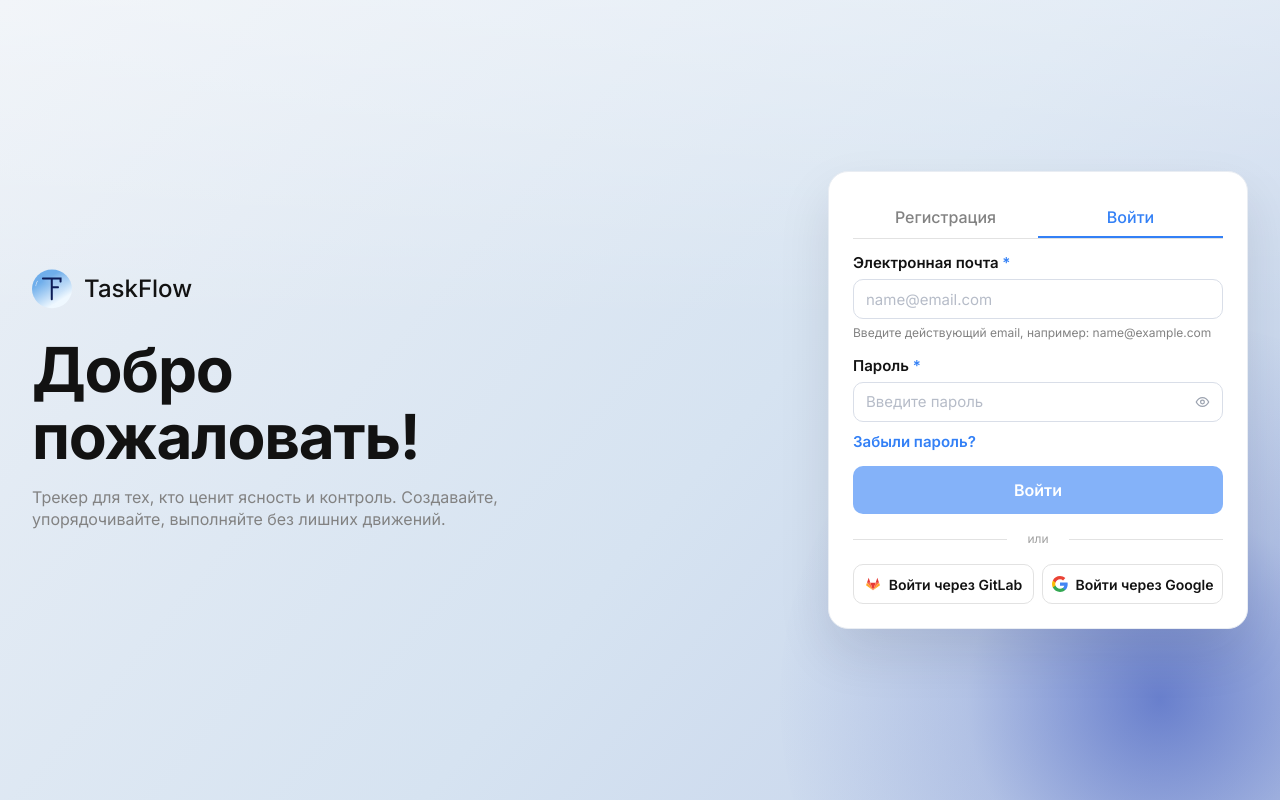
Test case: LoginPage register validation errors › shows backend error text for invalid login password
Type "existing_user@mail.ru" into the field with placeholder "name@email.com" at point(1038, 300), box left=866, top=289, right=1210, bottom=310
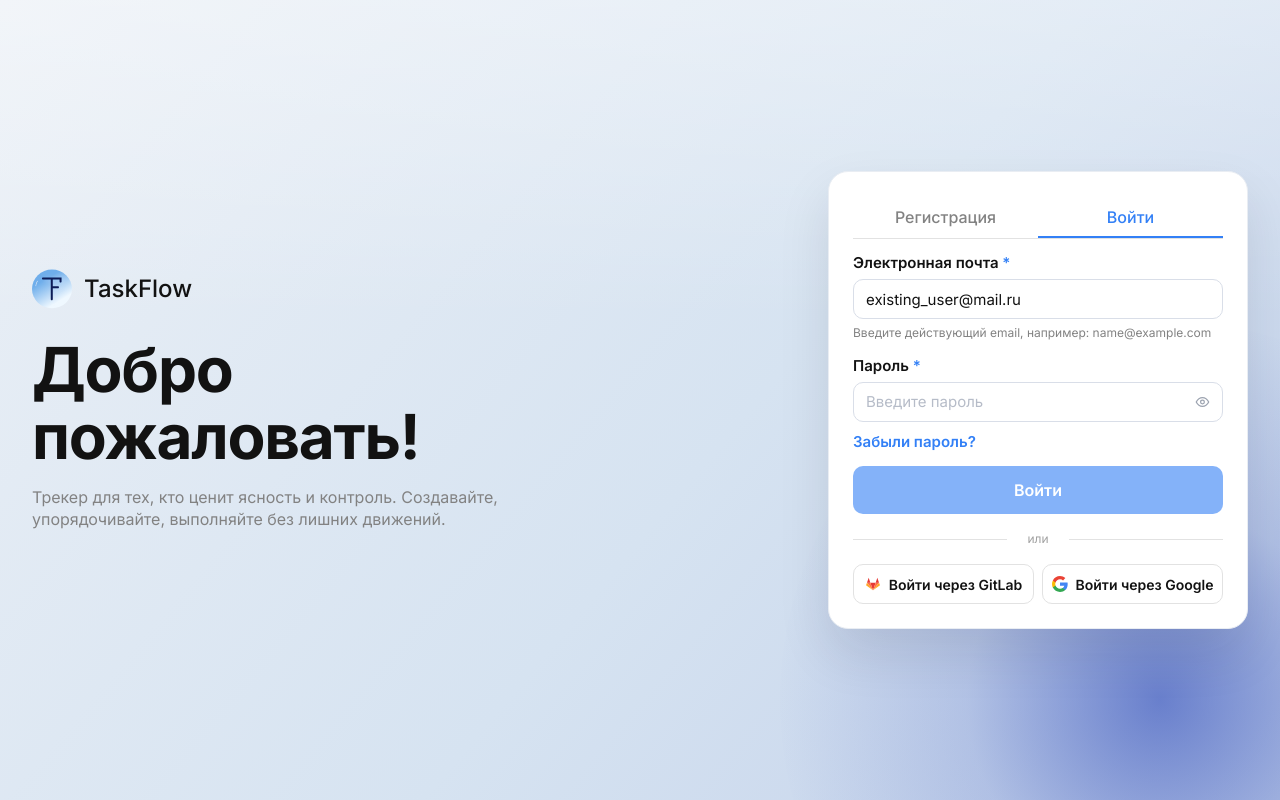
Type "WrongPassword1!" into the password field with placeholder "Введите пароль" at point(1027, 402), box left=866, top=391, right=1187, bottom=413
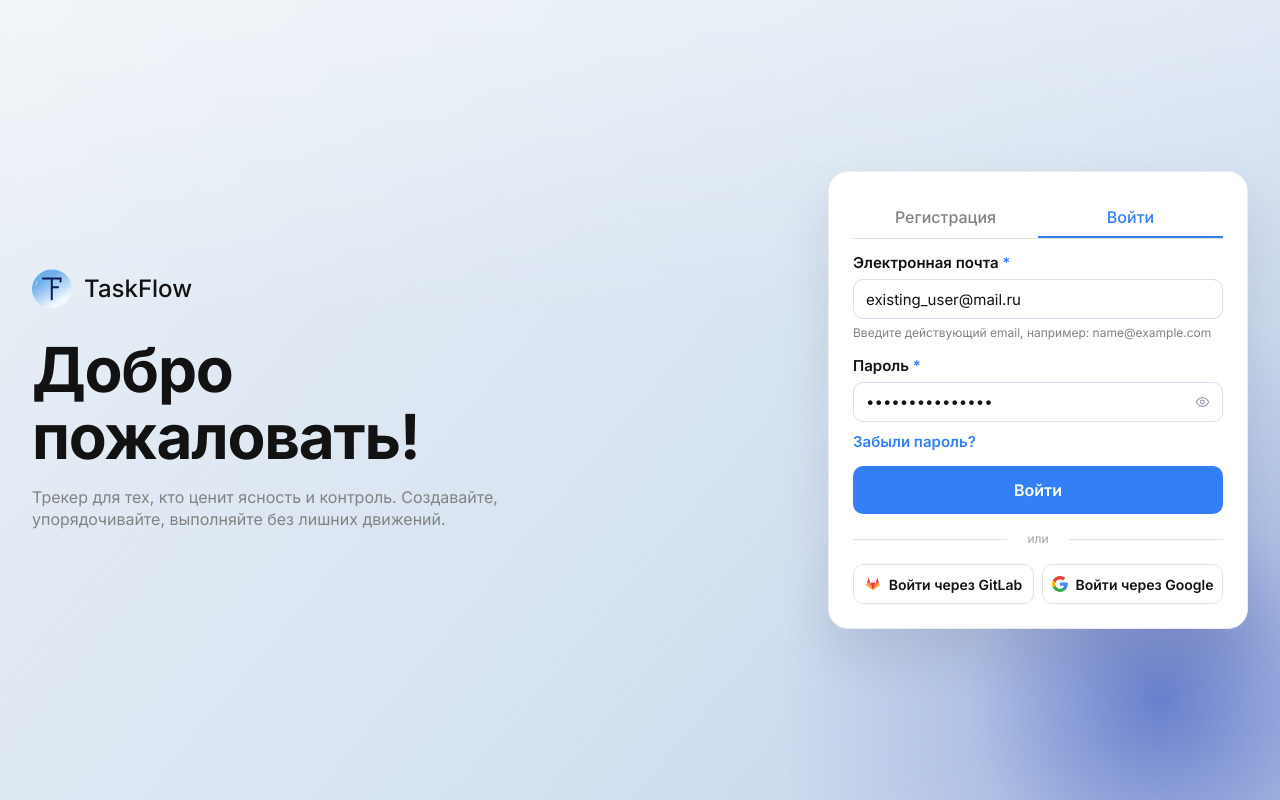
Click the button "Войти" at point(1038, 490), box left=853, top=466, right=1223, bottom=514
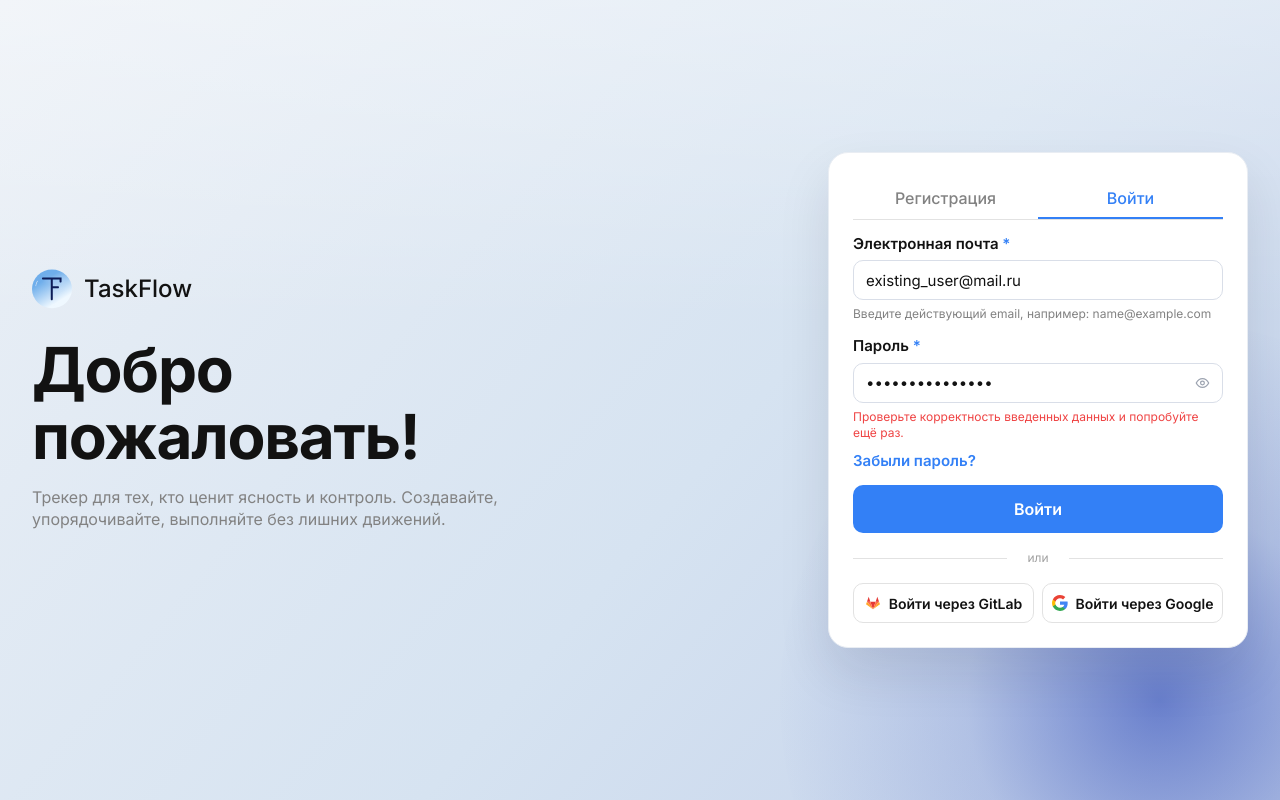
Expected: the text "Проверьте корректность введенных данных и попробуйте ещё раз." is shown, left=853, top=409, right=1223, bottom=441
